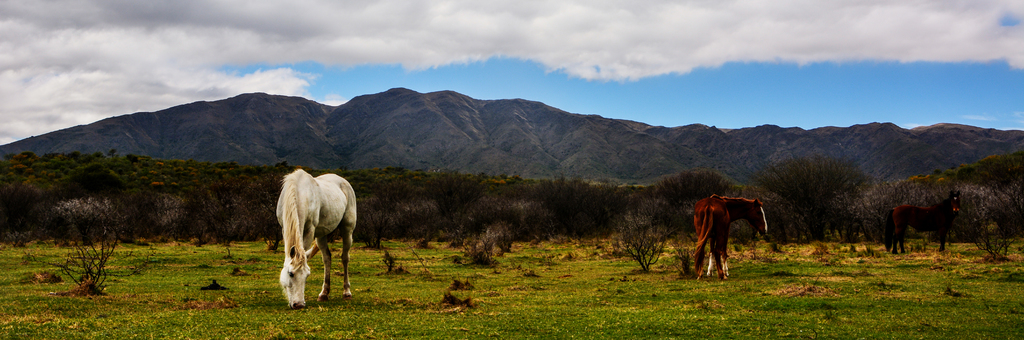horse: (271, 164, 357, 309), (687, 192, 771, 285)
